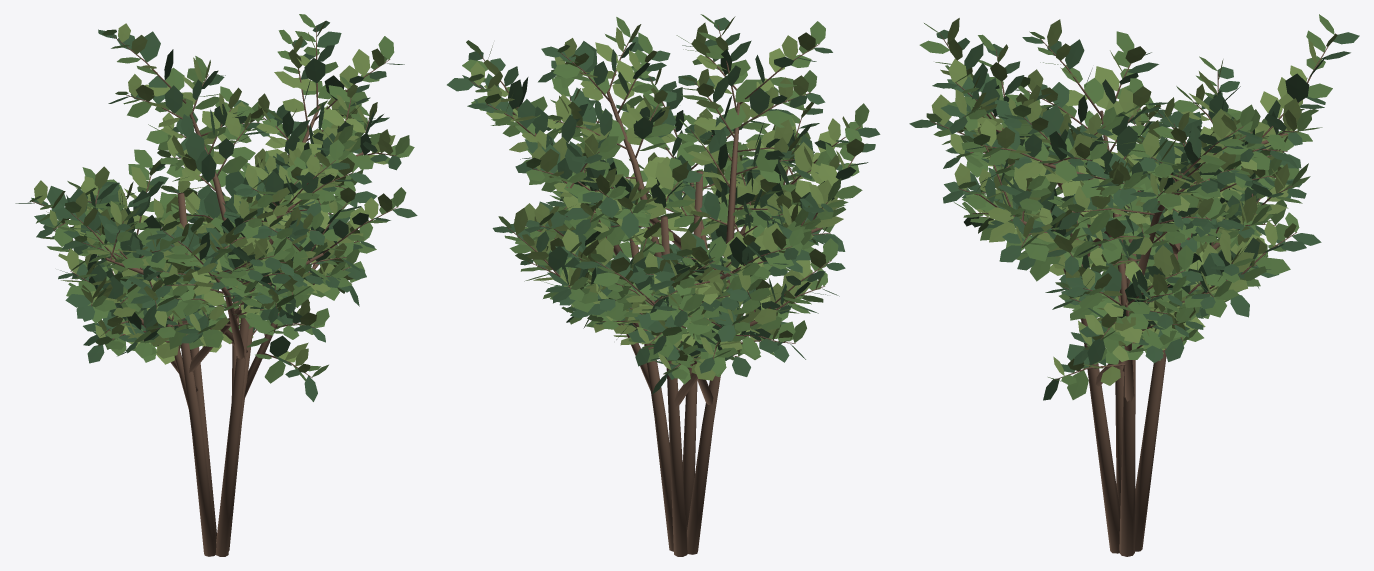
File: rpg-mansion-garden-multistem-deciduous-tree-01.glb
The picture shows the model from 3 angles, left to right: view 1: azimuth 30°, elevation 25°; view 2: azimuth 150°, elevation 25°; view 3: azimuth 270°, elevation 25°; orthographic projection. The views are drawn at different scales.
Visible parts, largest first — view 1: rpg-mansion-garden-multistem-deciduous-tree-01; view 2: rpg-mansion-garden-multistem-deciduous-tree-01; view 3: rpg-mansion-garden-multistem-deciduous-tree-01.
Part boxes in pixels (bbox=[...]): rpg-mansion-garden-multistem-deciduous-tree-01: bbox=[15, 14, 417, 556]; rpg-mansion-garden-multistem-deciduous-tree-01: bbox=[447, 14, 880, 556]; rpg-mansion-garden-multistem-deciduous-tree-01: bbox=[909, 14, 1359, 556].
Bounding box in the file's own units: 2.16 × 2.71 × 2.12.
